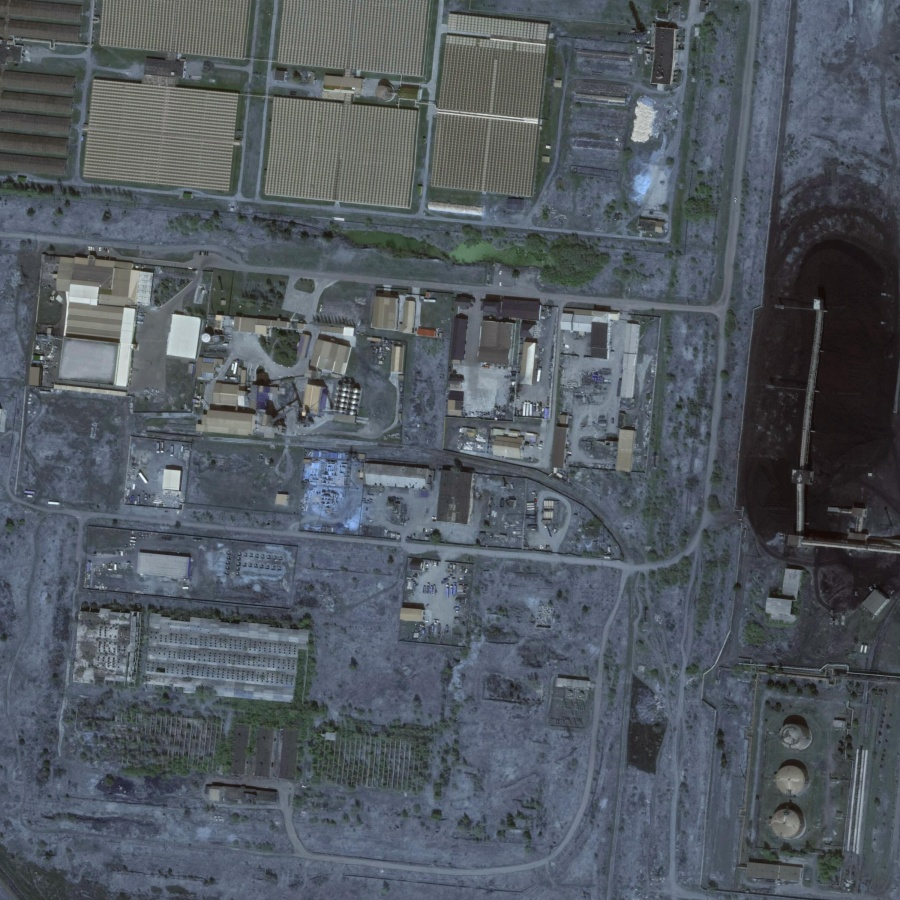PowerPlant: (730, 657, 878, 899)
